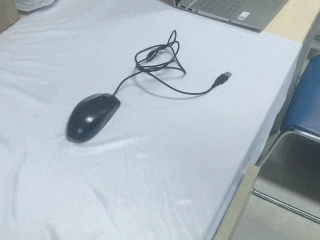box: (1, 1, 19, 40)
mouse: (65, 92, 122, 144)
